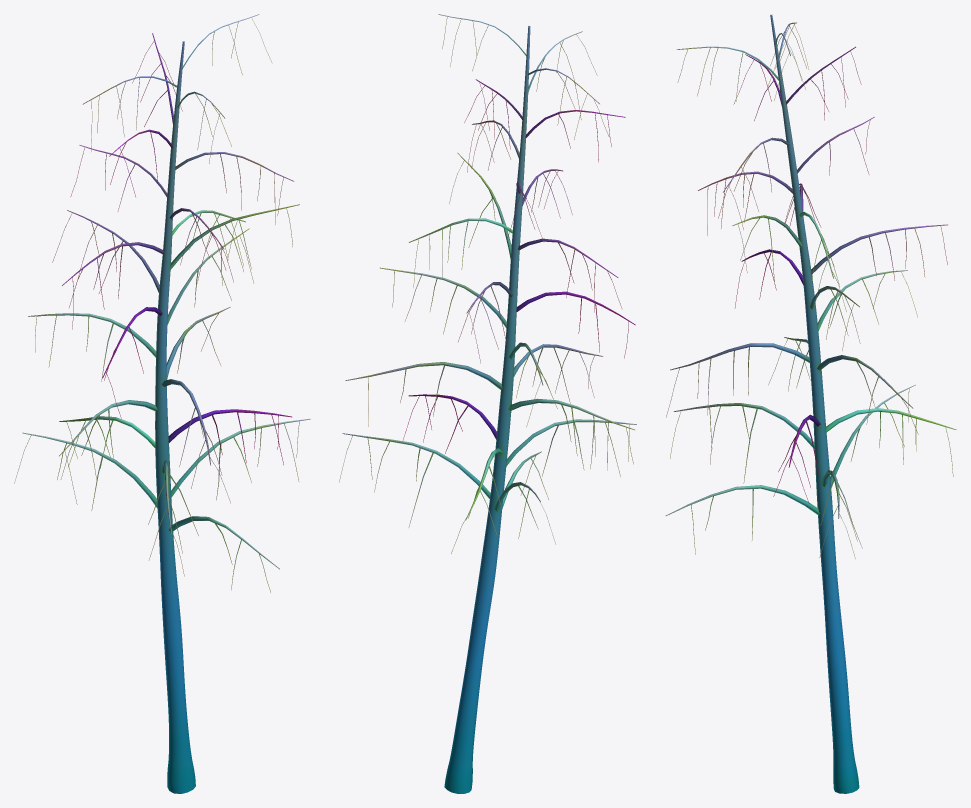
File: birch-b.glb
3 renders of one model, left to right at view 1: azimuth 30°, elevation 25°; view 2: azimuth 150°, elevation 25°; view 3: azimuth 270°, elevation 25°, orthographic. The views are drawn at different scales.
Parts seen in each view (by area): view 1: bark; view 2: bark; view 3: bark.
Part boxes in pixels (x1,y1,x2,y2): bark: [14, 14, 310, 793]; bark: [339, 14, 636, 793]; bark: [665, 14, 956, 793].
Size of the model in its own units: 6.06 by 16.23 by 5.64.
